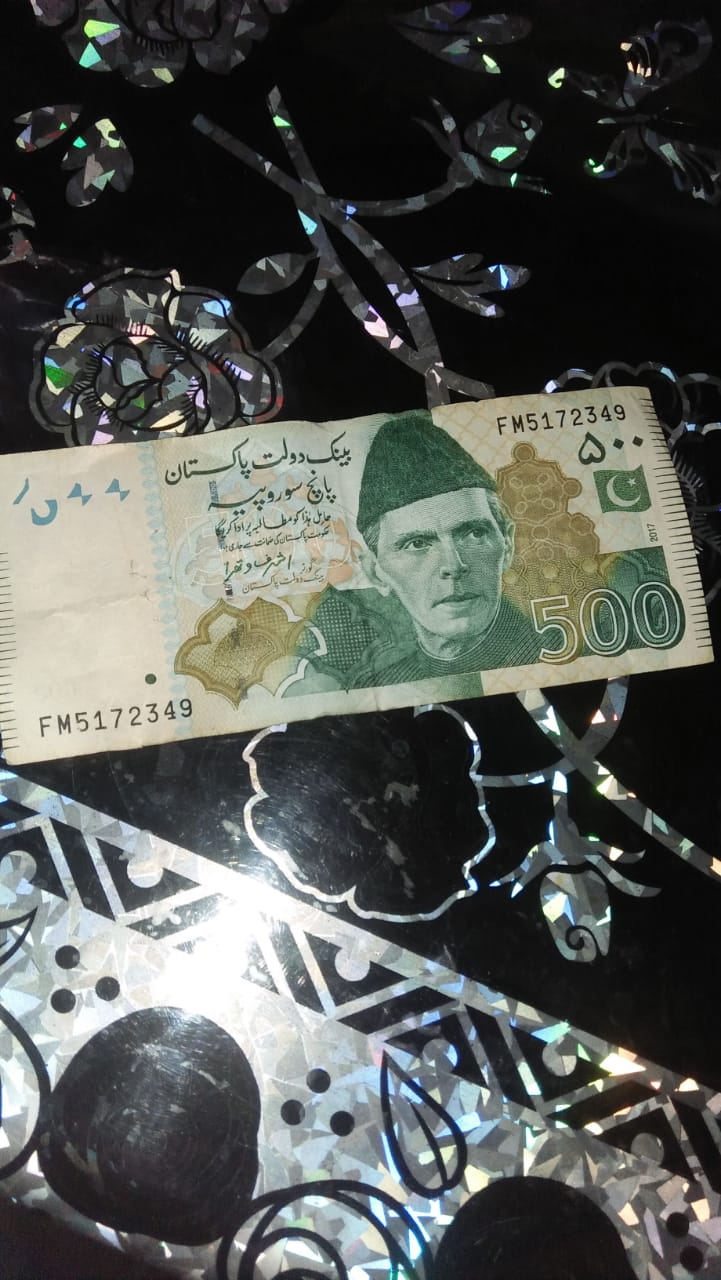500 rupee: (17, 351, 690, 793)
